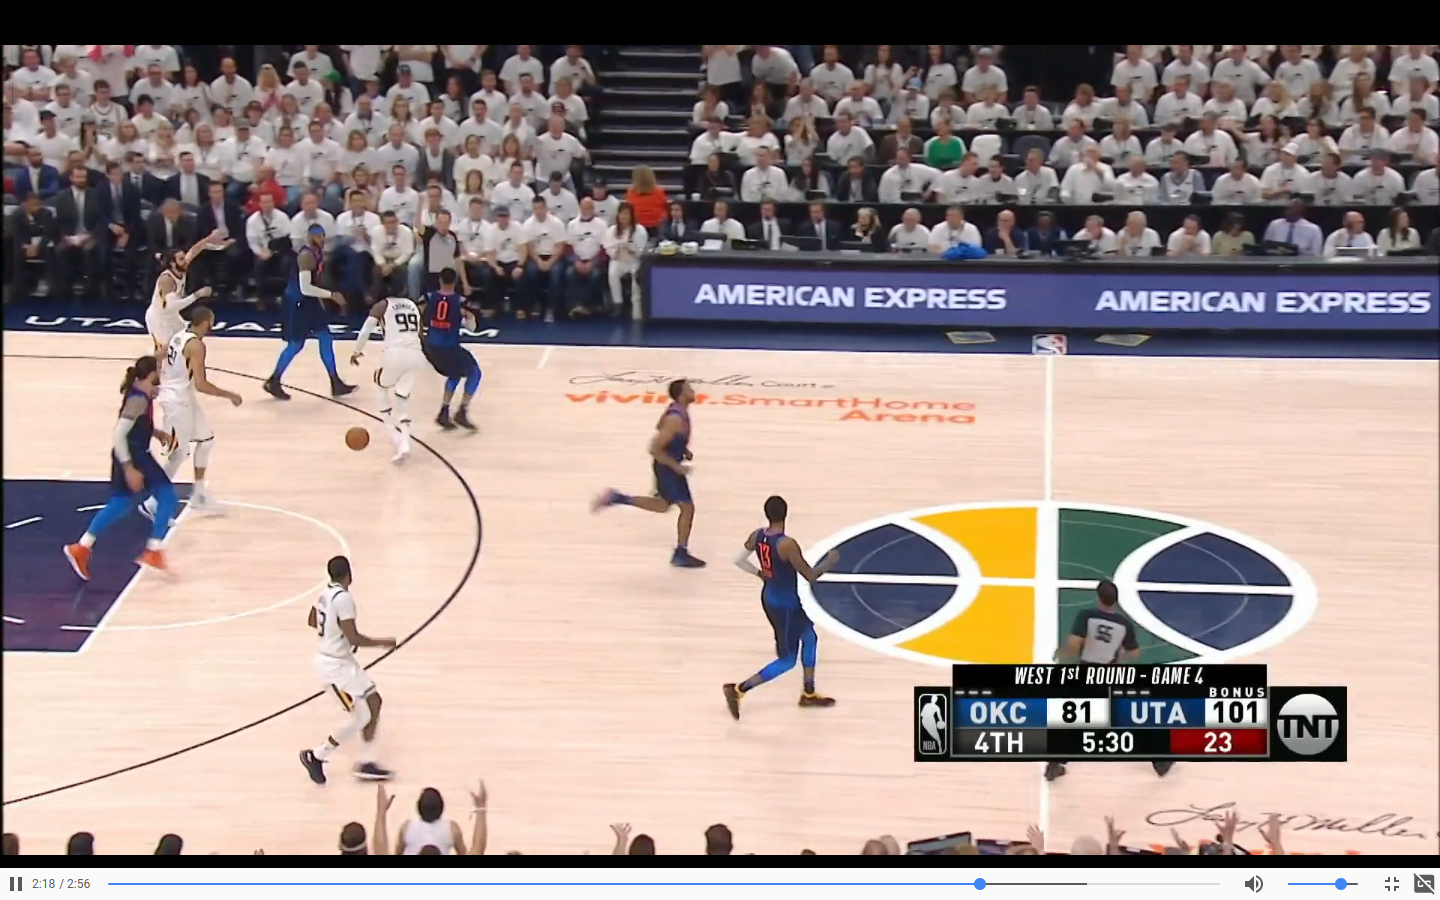basketball: (341, 423, 376, 457)
basketball player: (64, 356, 187, 597), (724, 494, 841, 719), (293, 548, 402, 789), (590, 374, 712, 569), (259, 220, 358, 403), (161, 303, 232, 519), (355, 286, 428, 460), (421, 259, 495, 432), (136, 228, 221, 339)
referee: (1056, 579, 1141, 666), (410, 208, 468, 274)
